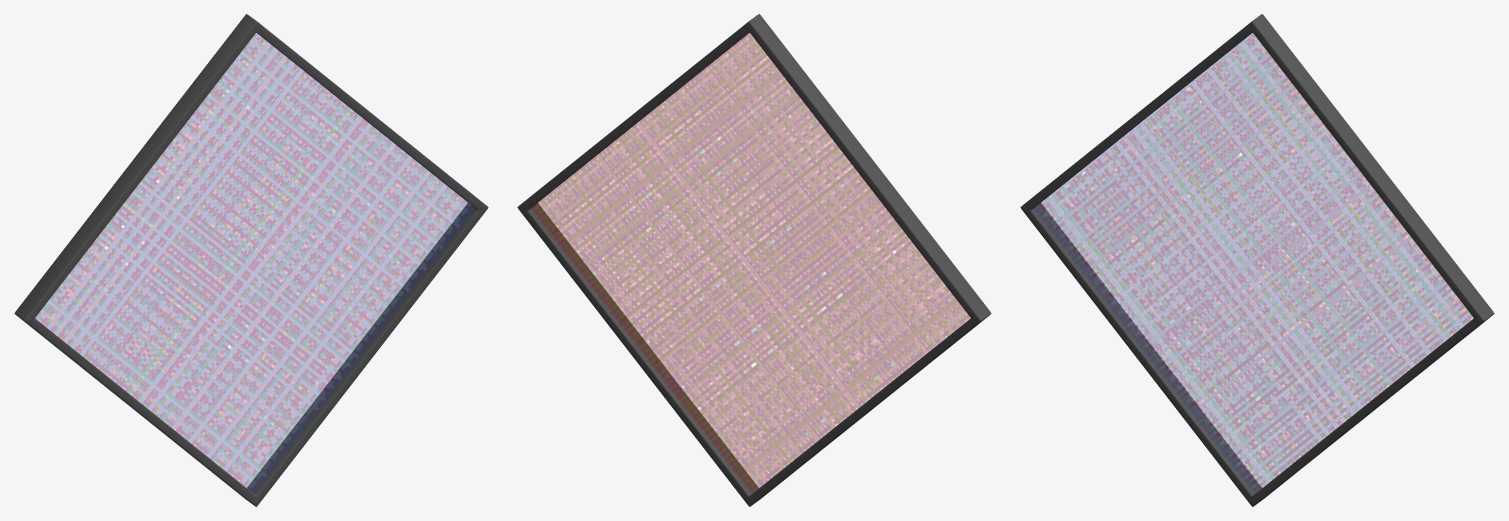
File: server-transformed.glb
3 renders of one model, left to right at view 1: azimuth 30°, elevation 25°; view 2: azimuth 150°, elevation 25°; view 3: azimuth 330°, elevation 25°, orthographic.
Parts seen in each view (by area): view 1: Cube_0; view 2: Cube_0; view 3: Cube_0.
Part boxes in pixels (<box>): Cube_0: <box>14,14,488,506</box>; Cube_0: <box>517,14,991,506</box>; Cube_0: <box>1020,14,1494,506</box>.
Bounding box in the file's own units: 2.95 × 2.95 × 0.1195.
